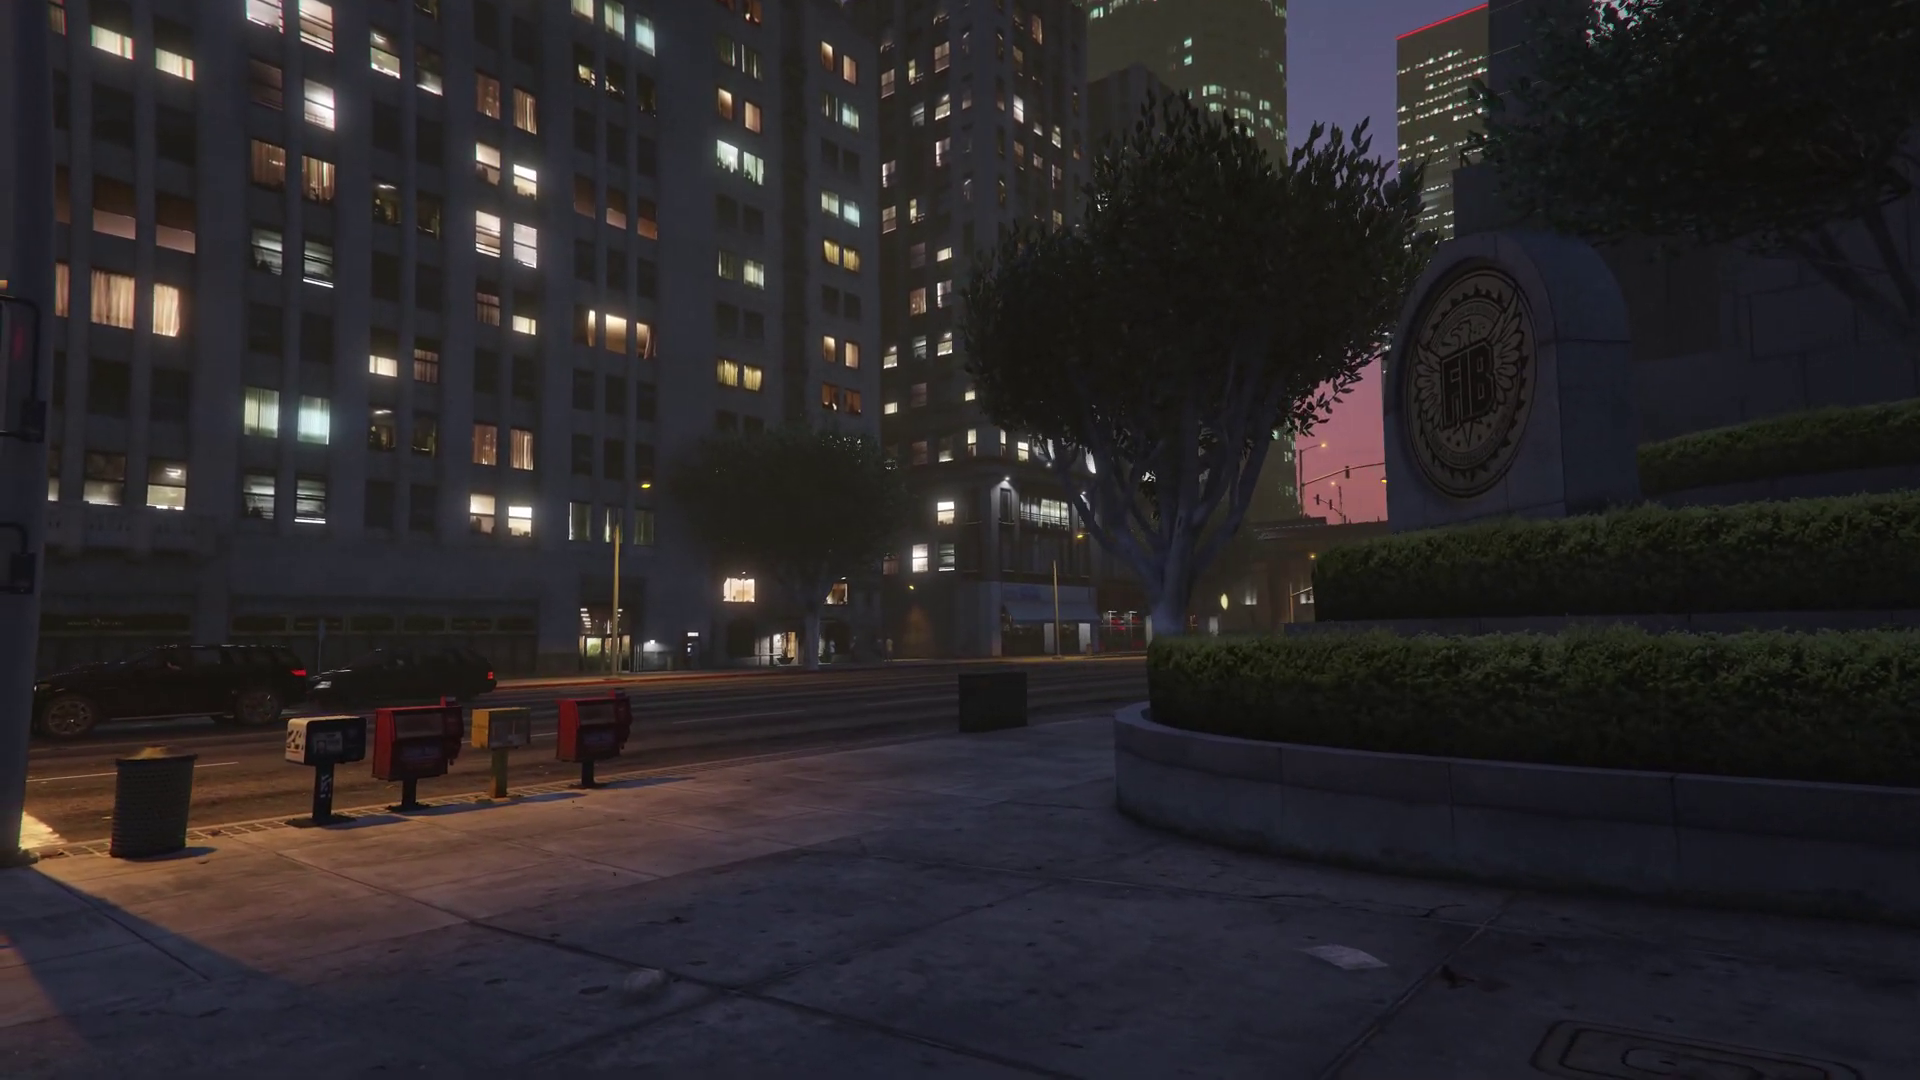car: (30, 641, 310, 732), (313, 647, 495, 709)
